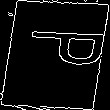P_E: (6, 35, 104, 75)
